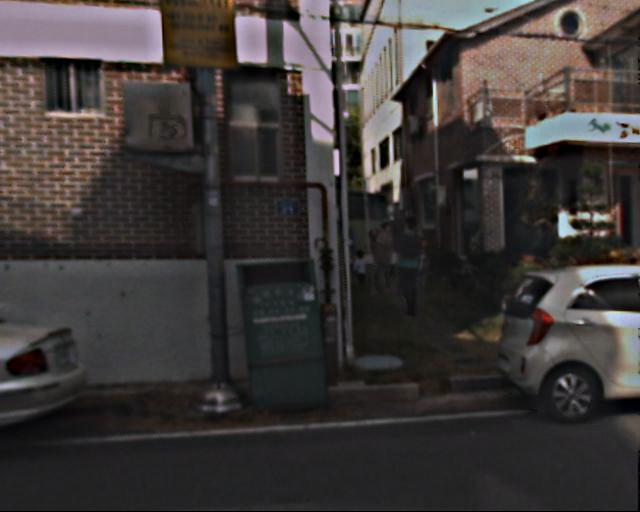person: (390, 215, 432, 318), (367, 223, 397, 298), (351, 249, 368, 289)
